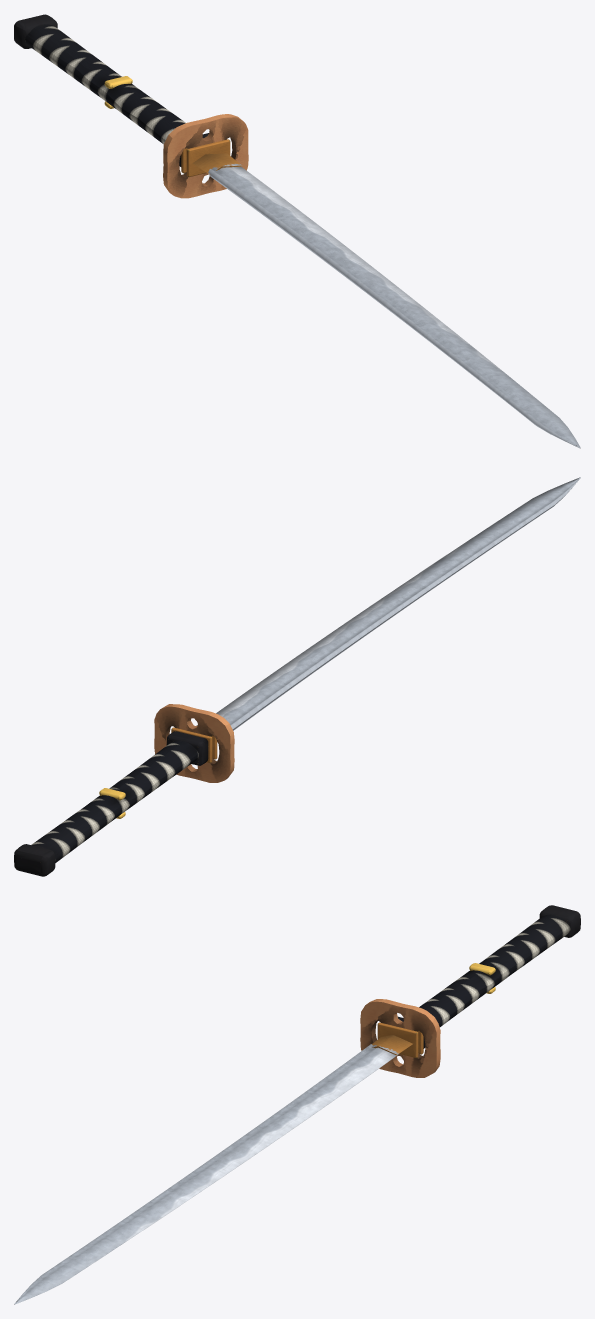
Rendered from katana_roblox.glb.
3 renders of one model, top to bottom at view 1: azimuth 30°, elevation 25°; view 2: azimuth 150°, elevation 25°; view 3: azimuth 330°, elevation 25°, orthographic. The views are drawn at different scales.
Parts seen in each view (by area): view 1: katana_Hilt, katana_Blade; view 2: katana_Hilt, katana_Blade; view 3: katana_Hilt, katana_Blade.
Part boxes in pixels (x1,y1,x2,y2): katana_Hilt: (14,14,248,198); katana_Blade: (208,166,580,448); katana_Hilt: (14,704,234,876); katana_Blade: (216,477,580,730); katana_Hilt: (360,905,580,1077); katana_Blade: (14,1044,398,1304).
Size of the model in its own units: 0.2891 by 0.2449 by 3.5.
2 materials, 2 textured.
